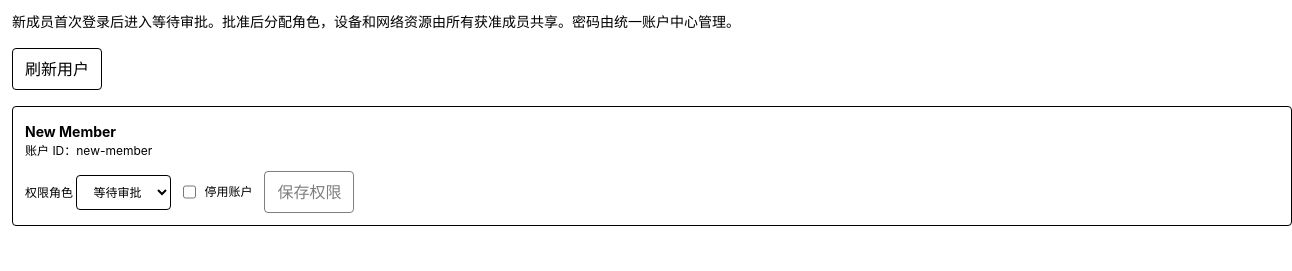
Test: can disable a member and reports server enforcement failures
Expected: the text "New Member" is shown, [25,123,116,140]
Step 1. Click the checkbox labelled "停用账户" → [190, 192], box [183,184,196,200]
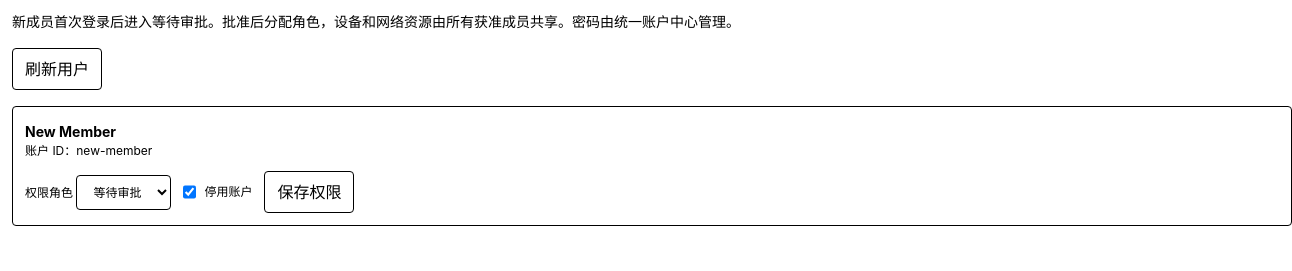
Step 2. Click the button "保存权限" → [309, 192], box [264,171,354,213]
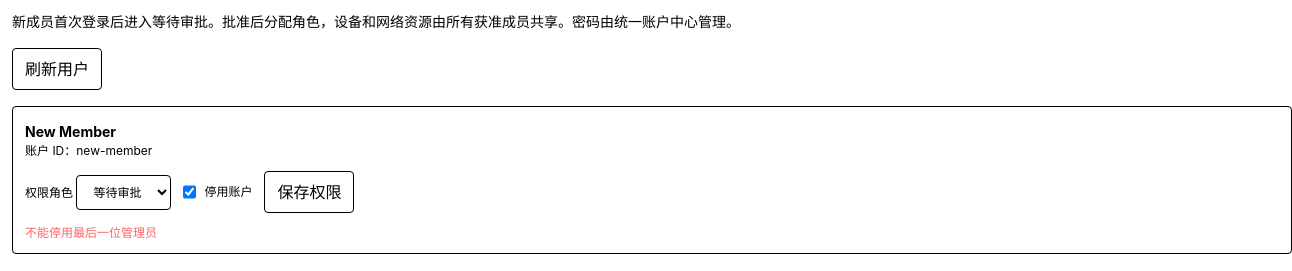
Result: the message reads "不能停用最后一位管理员" at [25,225,157,240]
